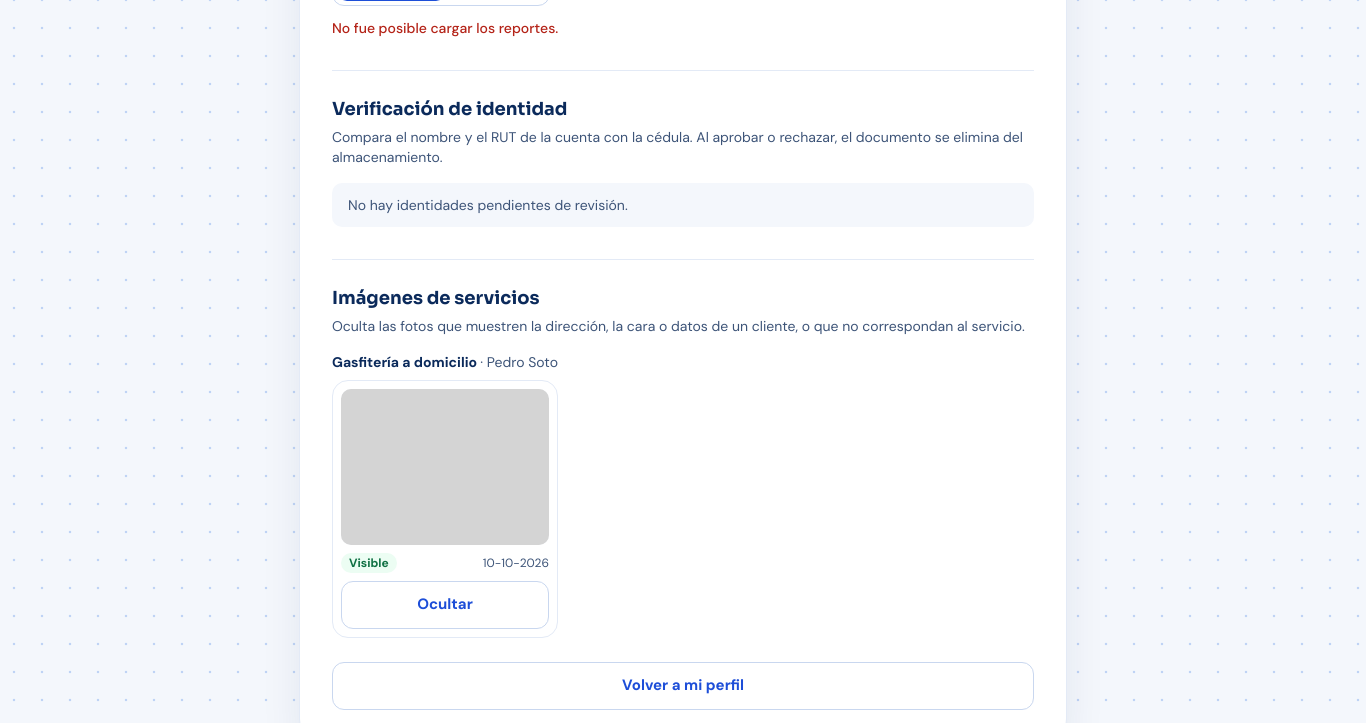
Scenario: Moderación en el panel de administración › si el proveedor no pudo borrar el archivo, lo dice y la imagen sigue visible
This screenshot has width=1366, height=723.
(page scrolled)
Click the button "Ocultar" at (445, 605), box [341,581,549,629]
(page scrolled)
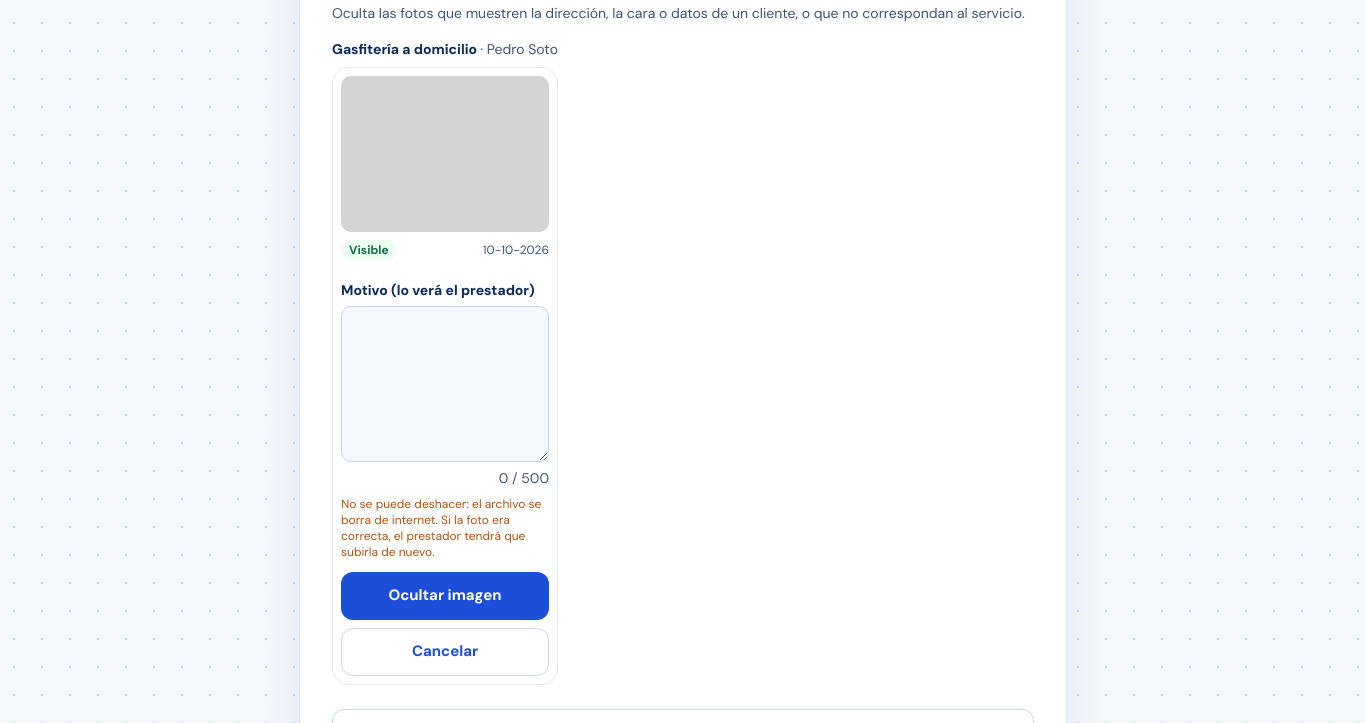
Type "Se ve la patente del auto del cliente." into the text box labelled "Motivo (lo verá el prestador)" at (445, 384), box [341,306,549,462]
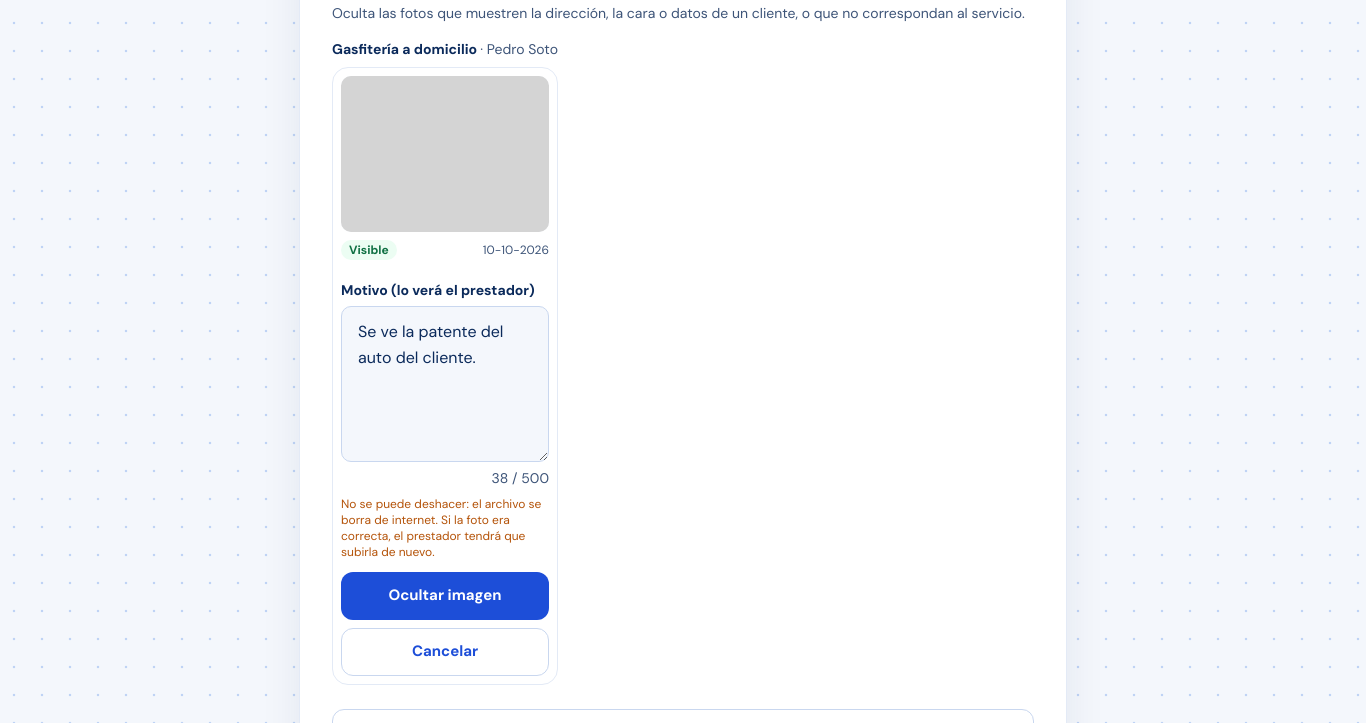
Click the button "Ocultar imagen" at (445, 596), box [341,572,549,620]
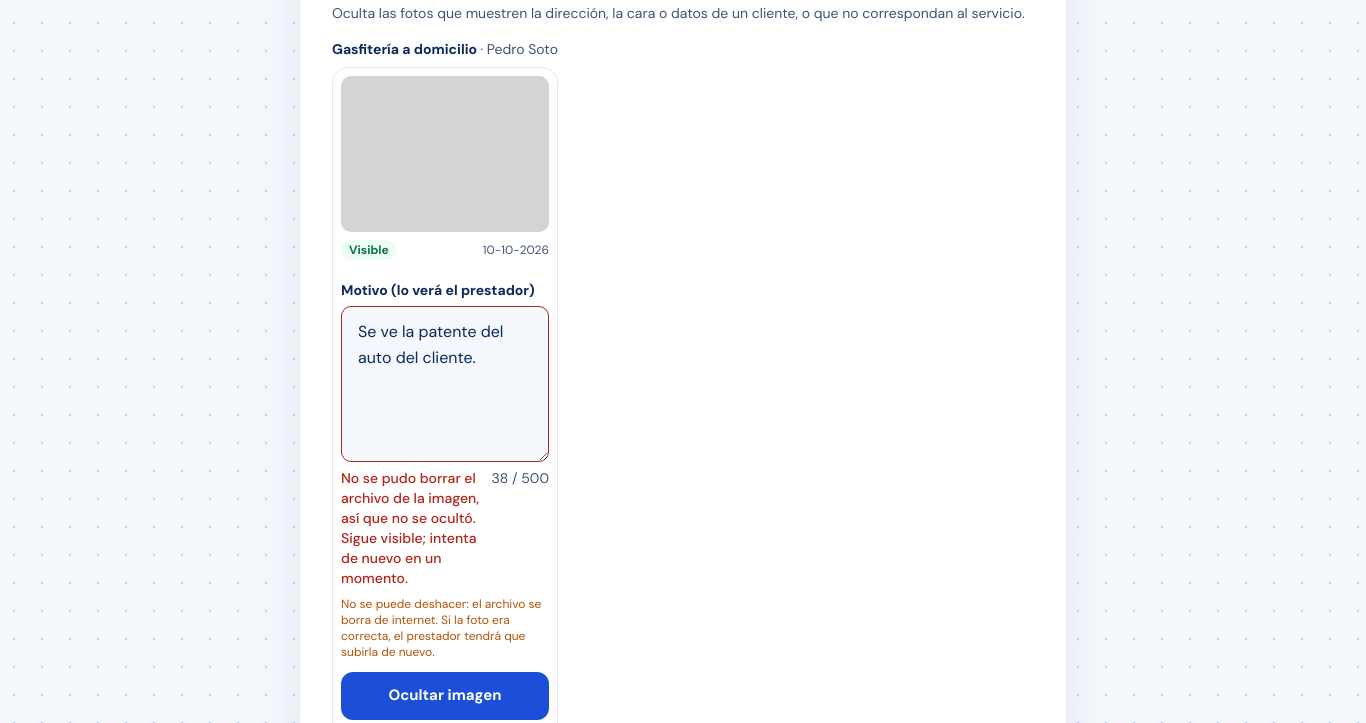
Expected: the text "Visible" is shown, [341,240,397,260]
Result: the text "no se ocultó. Sigue visible" is shown at [341,469,479,587]
